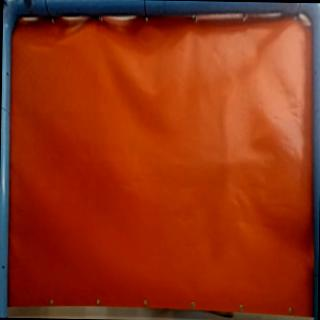Hit-hRxx: (218, 157, 238, 170)
